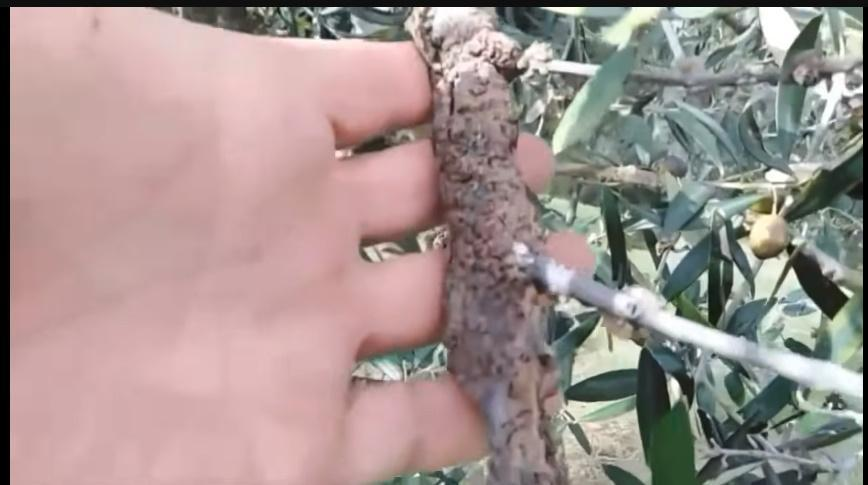Tuberculosis: (418, 2, 576, 392)
